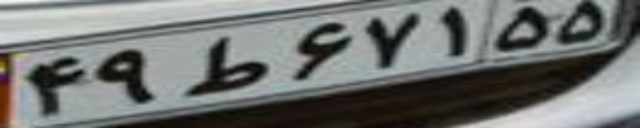1: (441, 6, 468, 56)
4: (26, 56, 84, 116)
5: (499, 5, 547, 50), (555, 0, 605, 43)
6: (288, 19, 350, 81)
7: (363, 13, 417, 69)
9: (93, 49, 148, 104)
taa: (180, 35, 272, 94)
